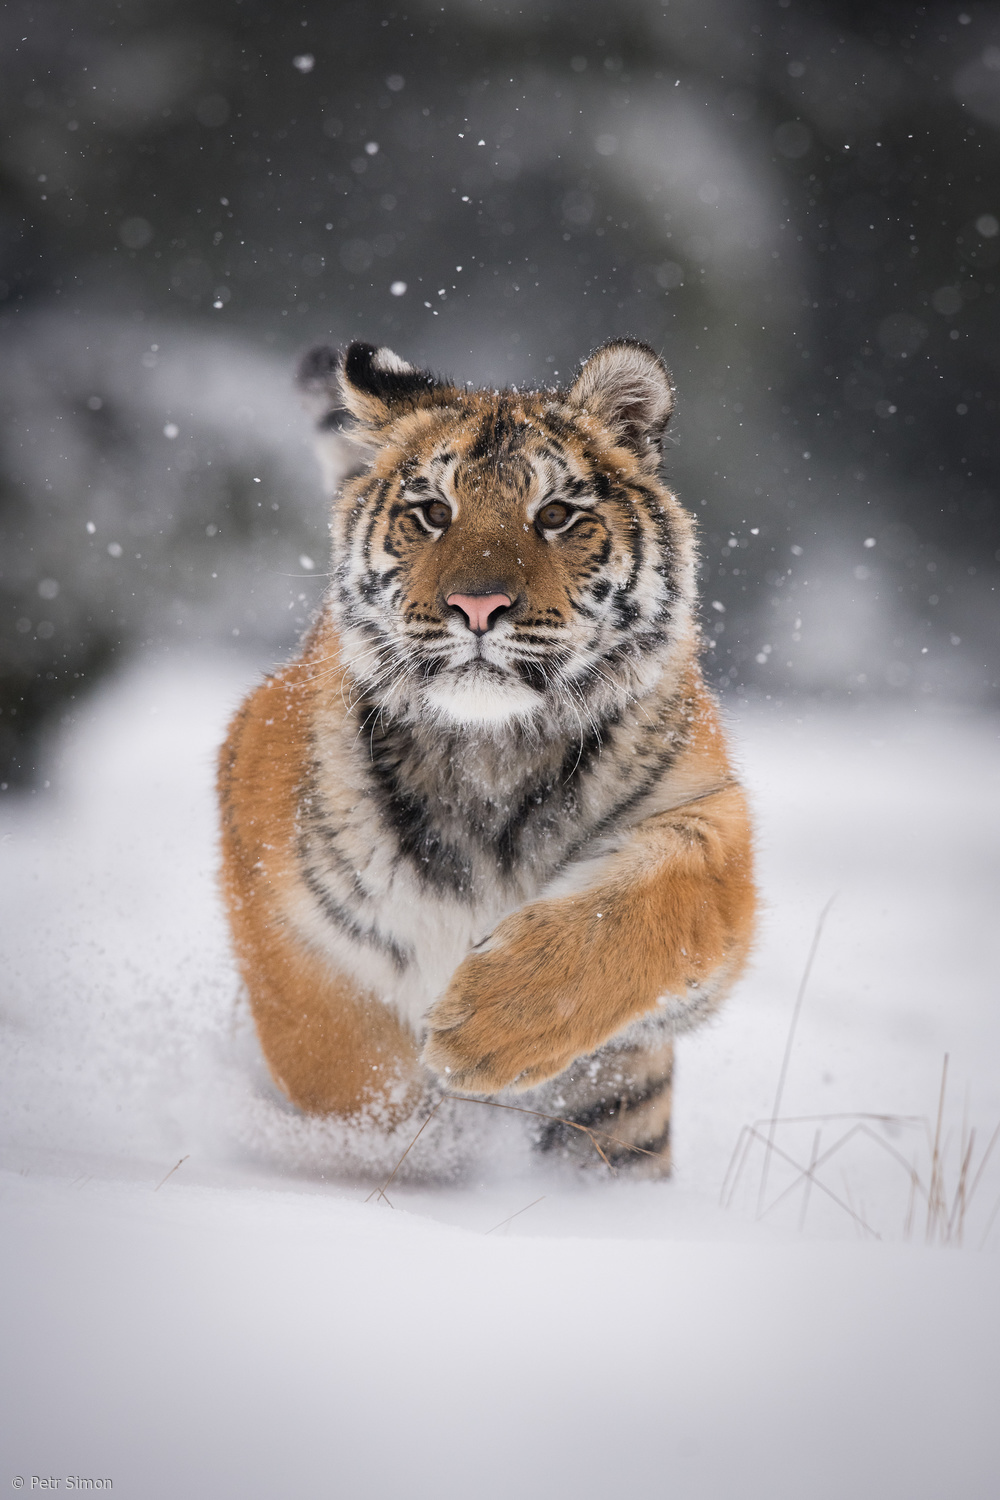tiger: (225, 331, 759, 1199)
